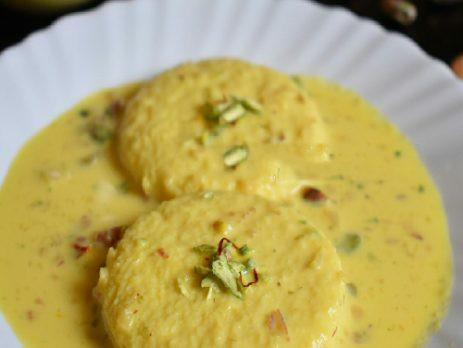RasMalai: (0, 55, 455, 348)
